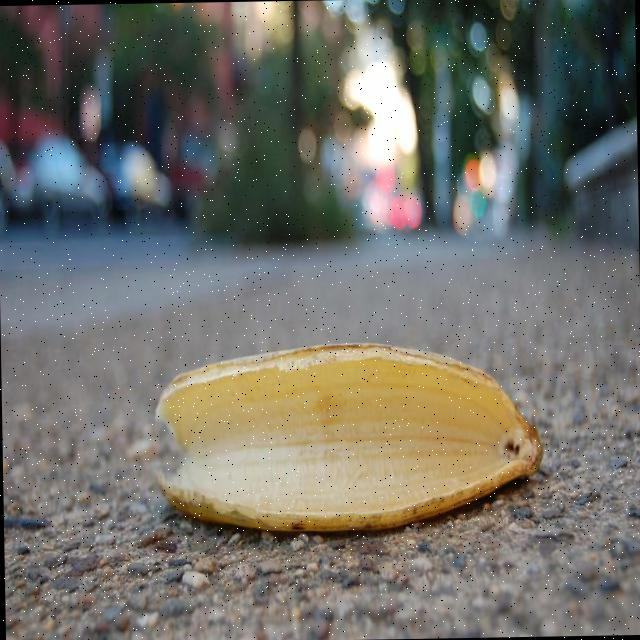banana-peel: (152, 337, 544, 536)
